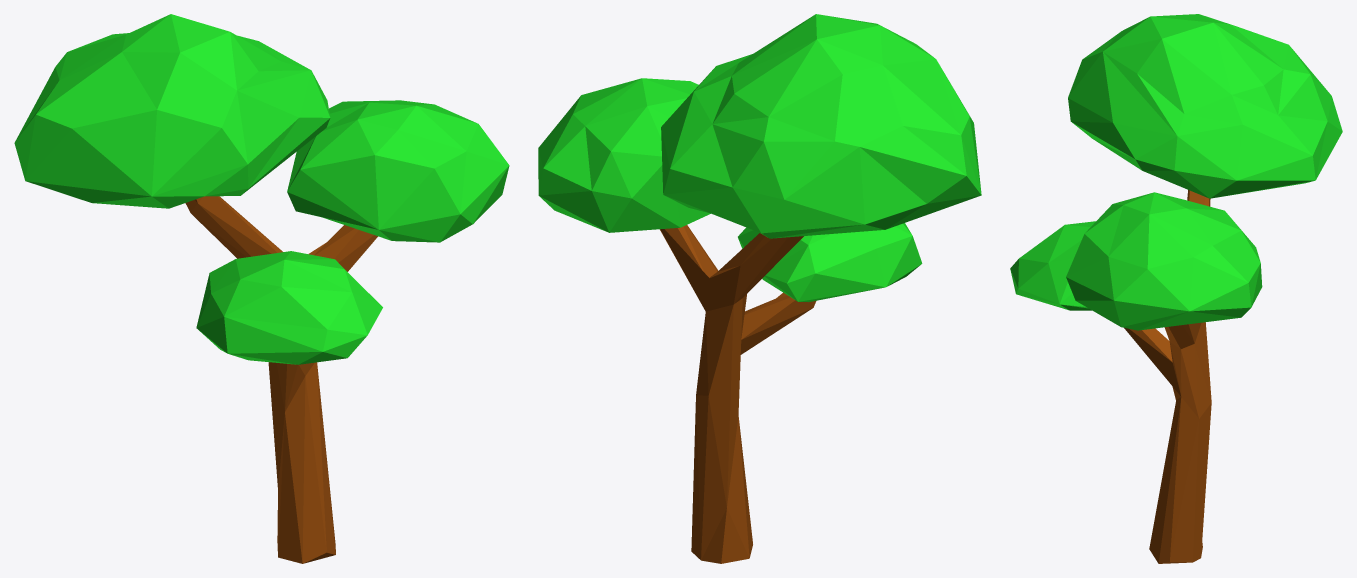
Rendered from tree-branched.glb.
3 views of the same model, side by side, from view 1: azimuth 30°, elevation 25°; view 2: azimuth 150°, elevation 25°; view 3: azimuth 270°, elevation 25° (orthographic). The views are drawn at different scales.
Visible parts, largest first — view 1: leaves, trunk; view 2: leaves, trunk; view 3: leaves, trunk.
Part boxes in pixels (<box>): leaves: <box>14,14,509,364</box>; trunk: <box>185,196,377,563</box>; leaves: <box>538,14,981,302</box>; trunk: <box>660,225,816,563</box>; leaves: <box>1010,14,1342,330</box>; trunk: <box>1124,190,1211,563</box>.
Bounding box in the file's own units: 7.34 × 8.72 × 5.43.
